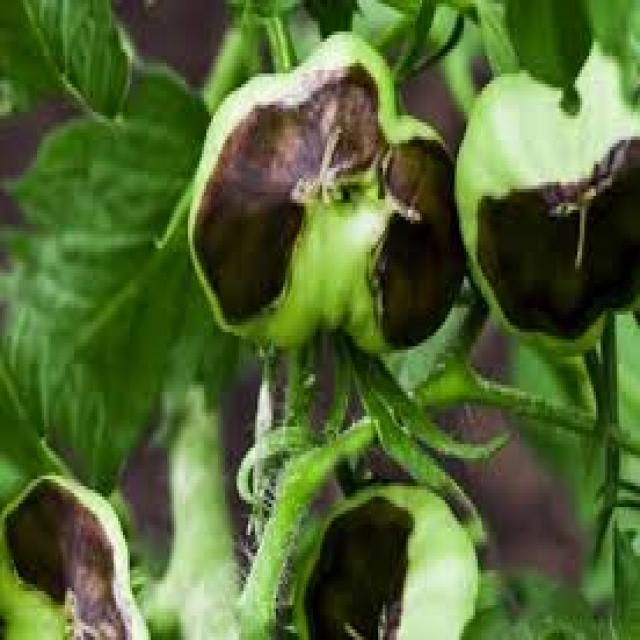organic waste: (188, 24, 459, 350), (452, 45, 638, 357), (288, 479, 476, 637), (0, 468, 148, 636)
